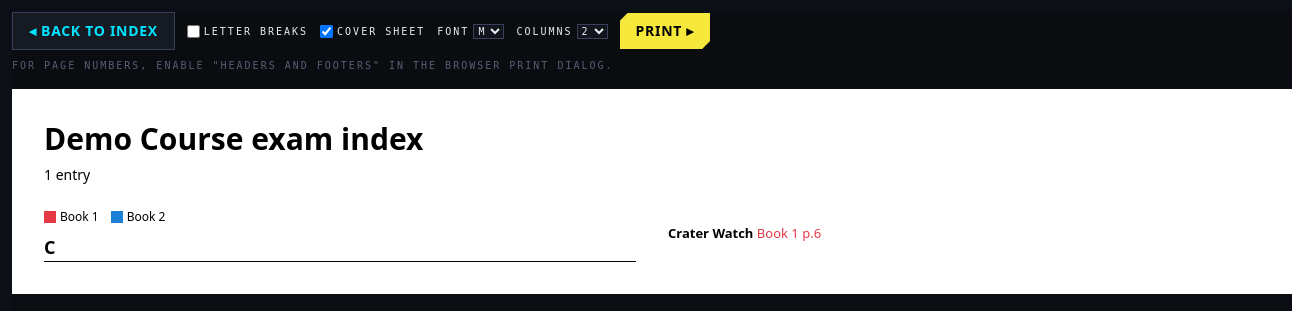
Scenario: cover sheet toggle removes the cover block
Click the checkbox labelled "COVER SHEET" at (327, 31), box [320,24,333,38]
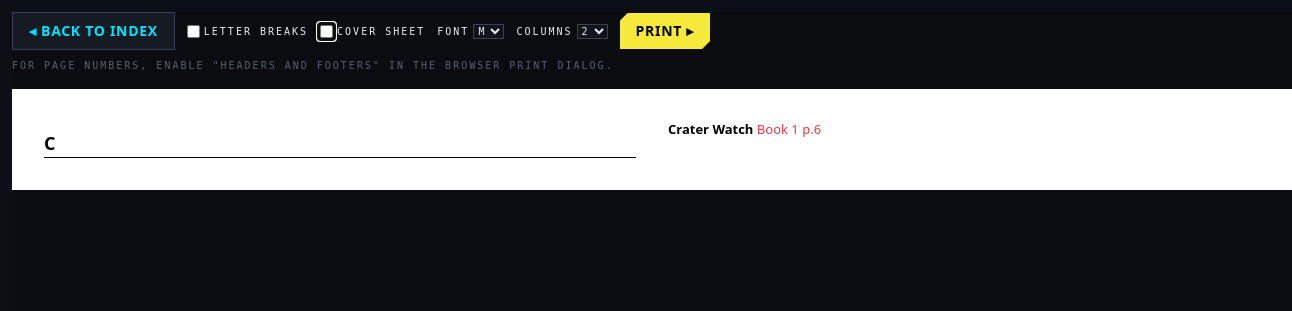
Expected: the element with test id "print-cover" is gone
